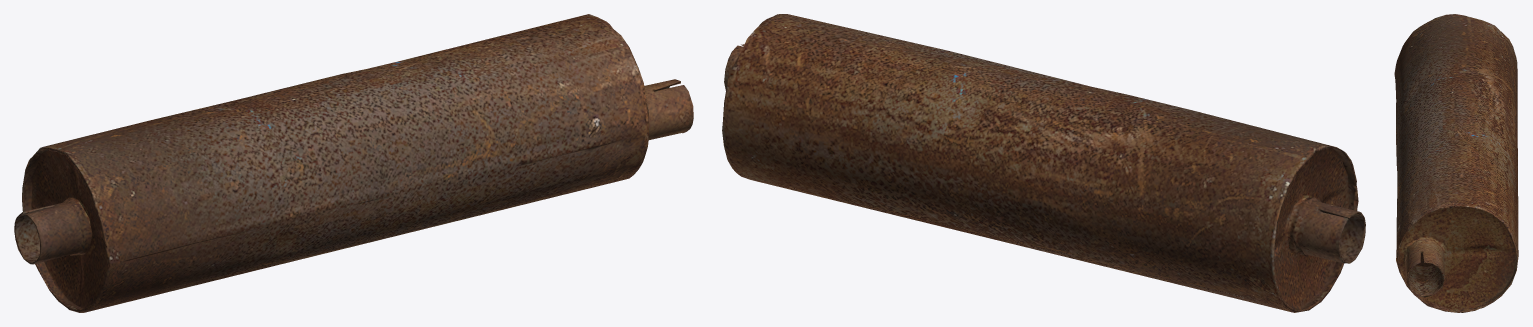
Rendered from SM_Ind_Jun_Exhaust_Metal_Rusty_02.gltf.
3 renders of one model, left to right at view 1: azimuth 30°, elevation 25°; view 2: azimuth 150°, elevation 25°; view 3: azimuth 270°, elevation 25°, orthographic. The views are drawn at different scales.
Visible parts, largest first — view 1: SM_Ind_Jun_Exhaust_Metal_Rusty_02; view 2: SM_Ind_Jun_Exhaust_Metal_Rusty_02; view 3: SM_Ind_Jun_Exhaust_Metal_Rusty_02.
Boxes of the visible parts, <box> form: SM_Ind_Jun_Exhaust_Metal_Rusty_02: <box>14,14,693,312</box>; SM_Ind_Jun_Exhaust_Metal_Rusty_02: <box>722,14,1365,312</box>; SM_Ind_Jun_Exhaust_Metal_Rusty_02: <box>1394,14,1518,312</box>.
Size of the model in its own units: 0.7794 by 0.1837 by 0.1855.
Materials: 1 (1 with a texture image).
